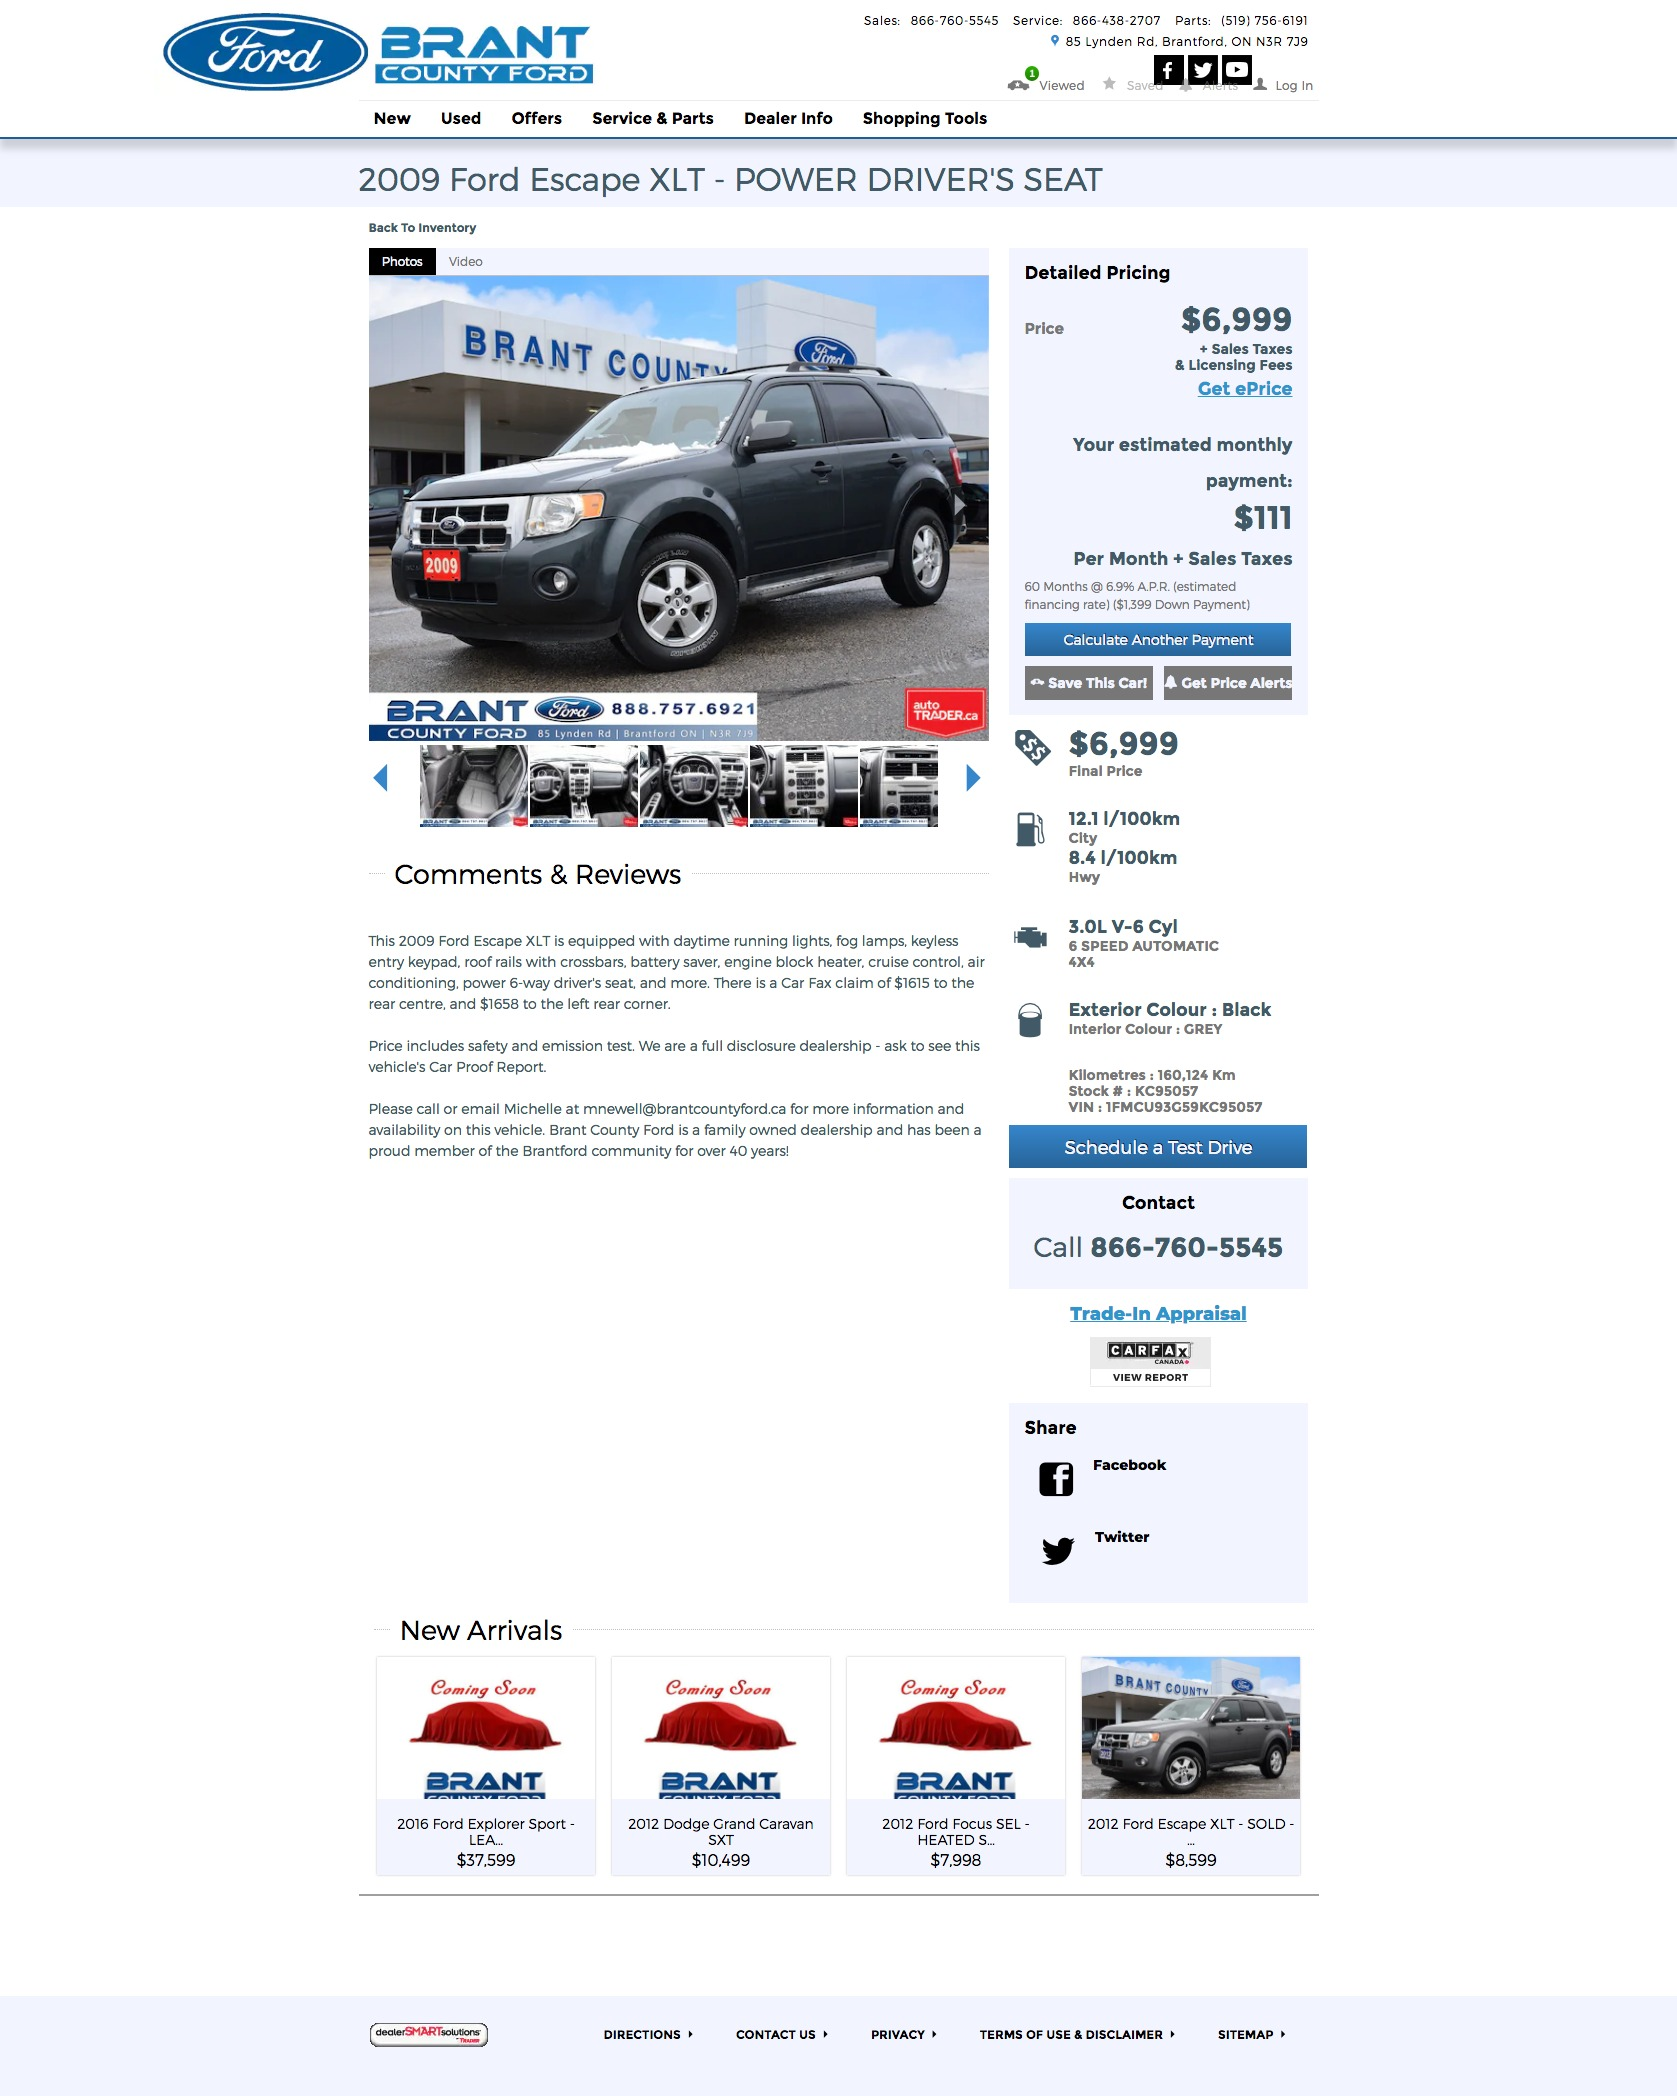car: (965, 765, 981, 790)
